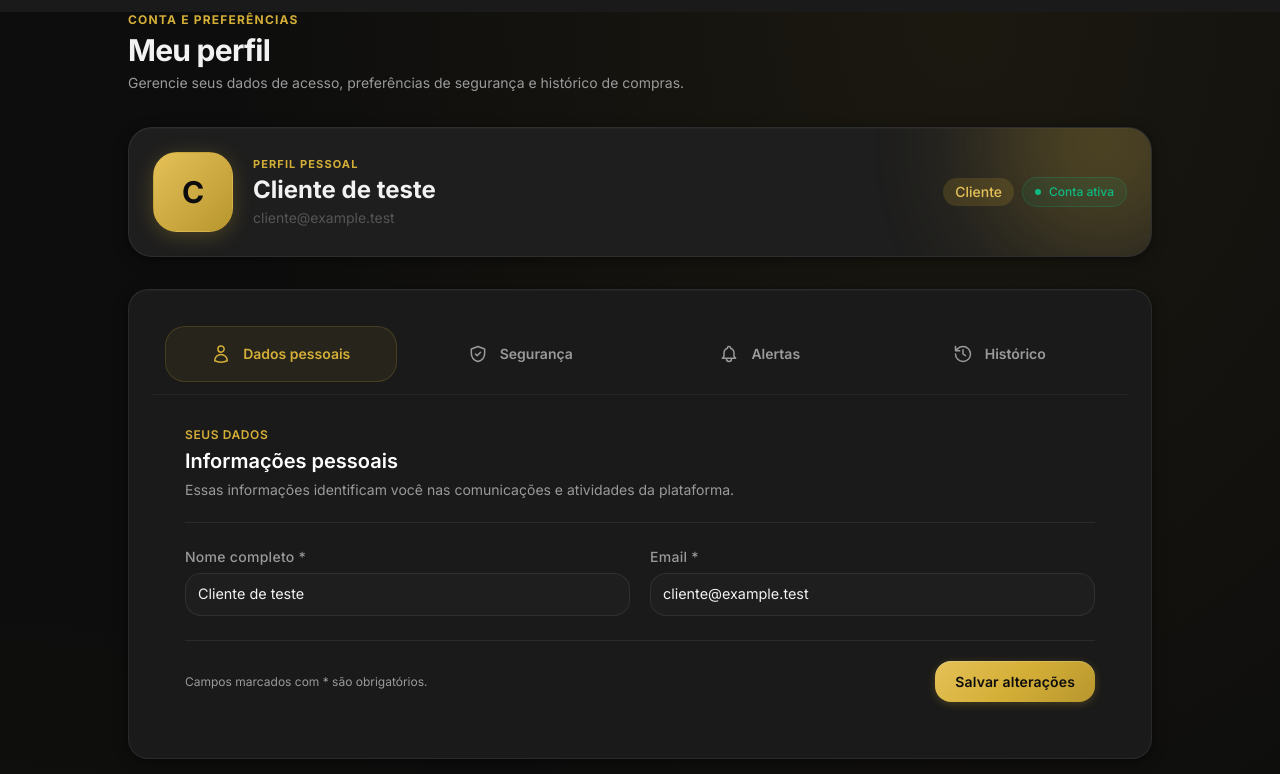
Profile account deletion › presents the profile sections with clear tab navigation
The image size is (1280, 774).
Check: the heading "Meu perfil" is shown, box [128,32,270,68]
Check: the heading "Informações pessoais" is shown, box [185,449,398,473]
Click the tab "Segurança": click(520, 354) [404,326,636,382]
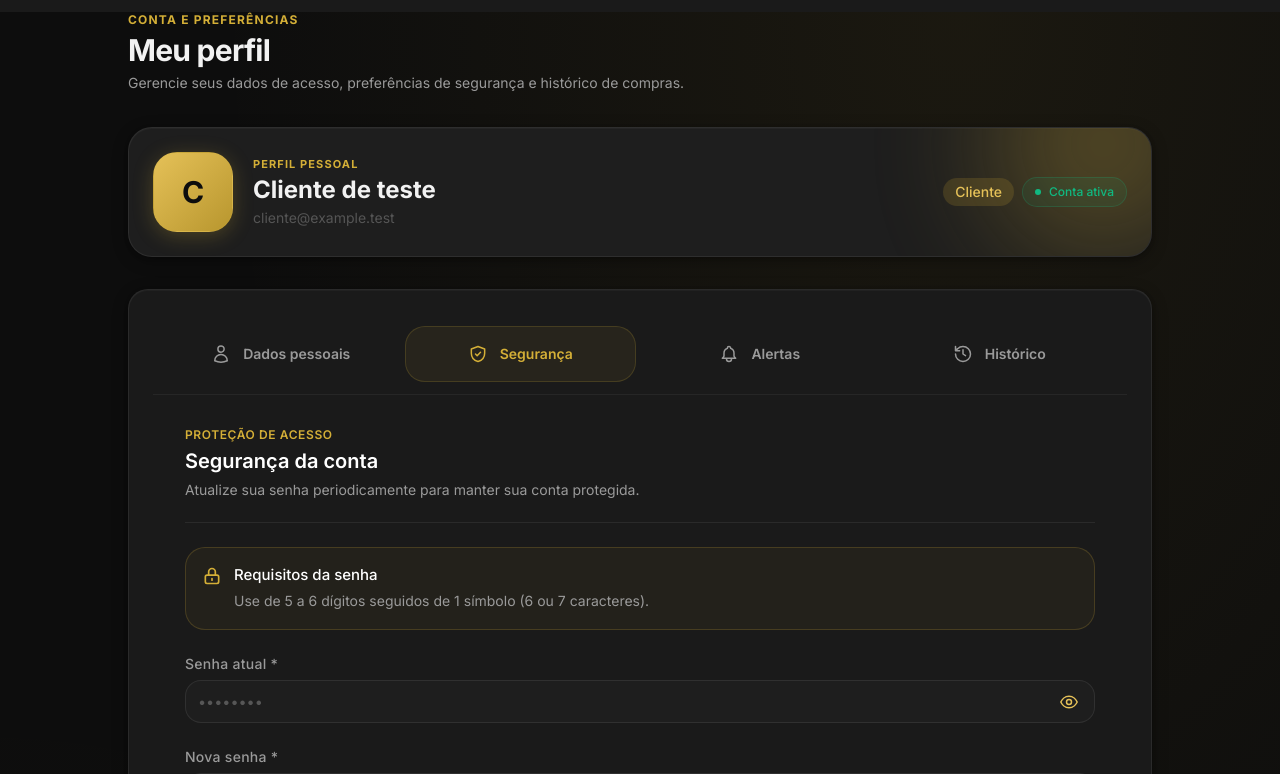
Check: the heading "Segurança da conta" is shown, box [185,449,378,473]
Click the tab "Histórico": click(999, 354) [884,326,1115,382]
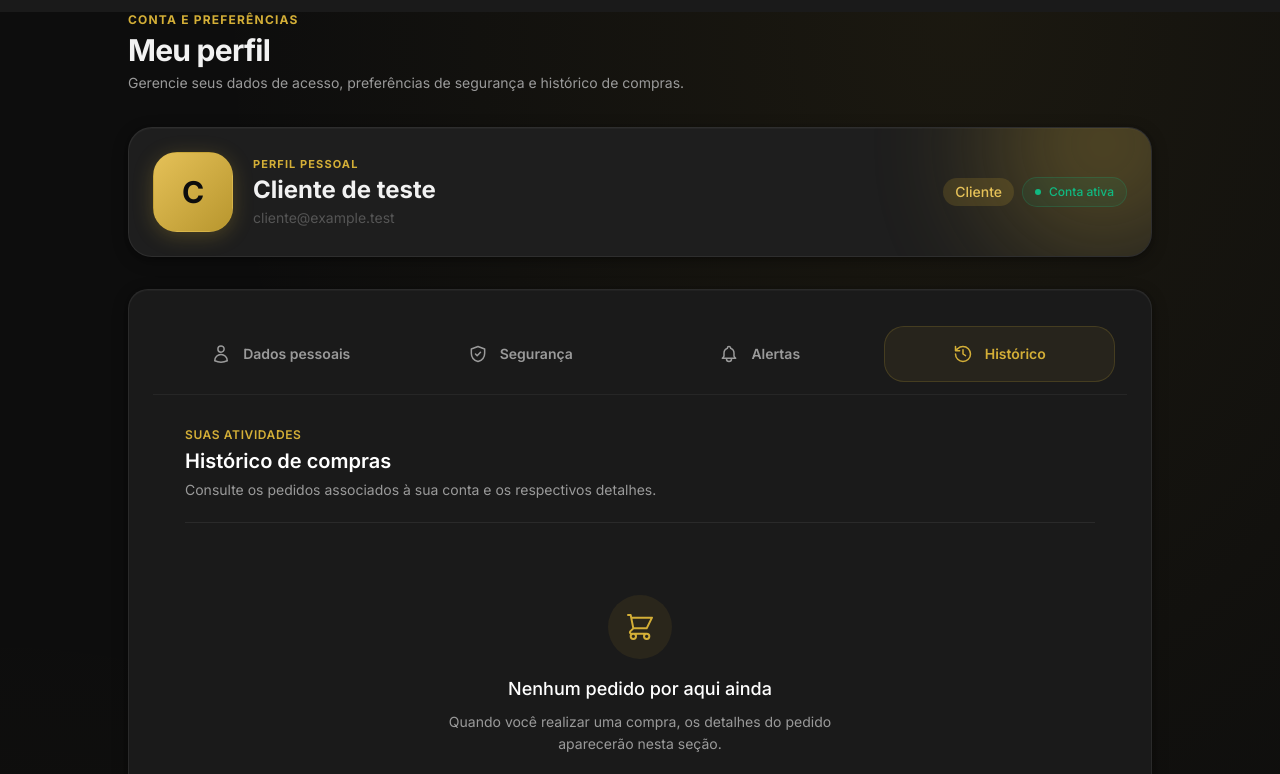
Check: the heading "Histórico de compras" is shown, box [185,449,391,473]
